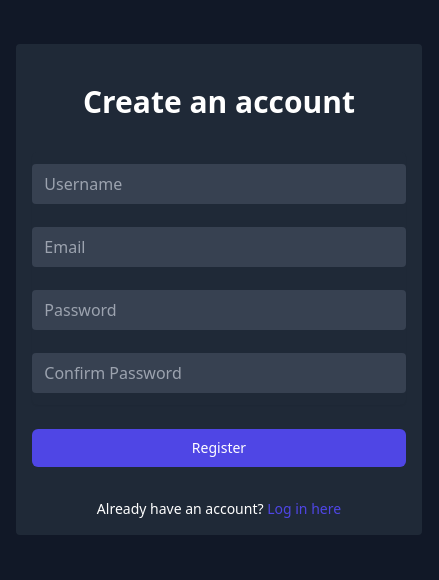
Test: Register › displays error message for failed registration
In the field with placeholder "Username": (219, 184) x1=32 y1=164 x2=406 y2=204, type "testuser"
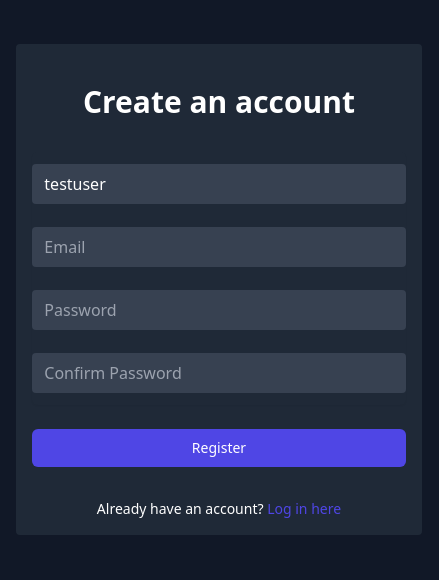
In the field with placeholder "Email": (219, 246) x1=32 y1=226 x2=406 y2=266, type "test@example.com"
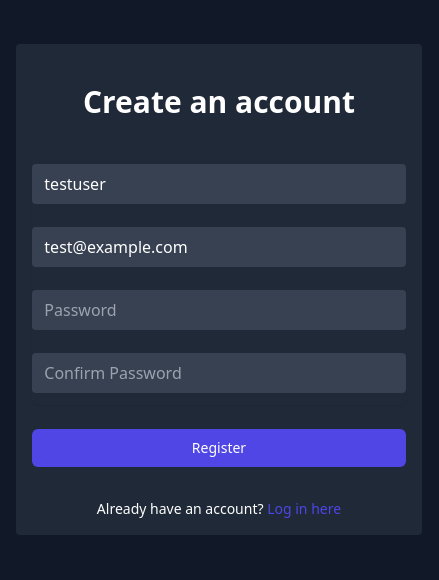
In the password field with placeholder "Password": (219, 310) x1=32 y1=290 x2=406 y2=330, type "StrongPassword123!"
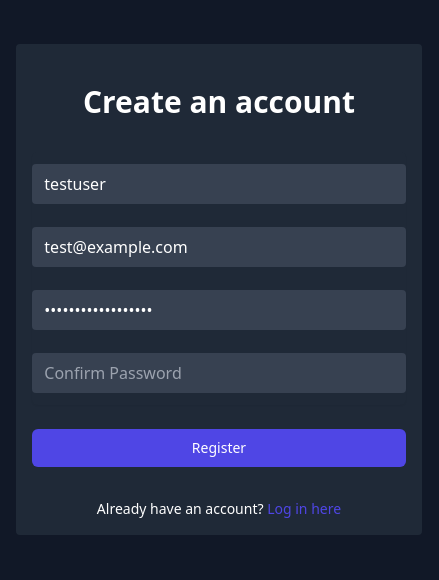
In the password field with placeholder "Confirm Password": (219, 372) x1=32 y1=352 x2=406 y2=392, type "StrongPassword123!"
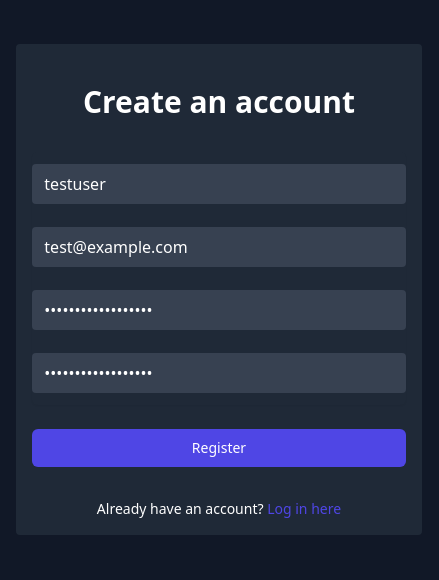
Click the button "Register": (219, 448) x1=32 y1=428 x2=406 y2=466
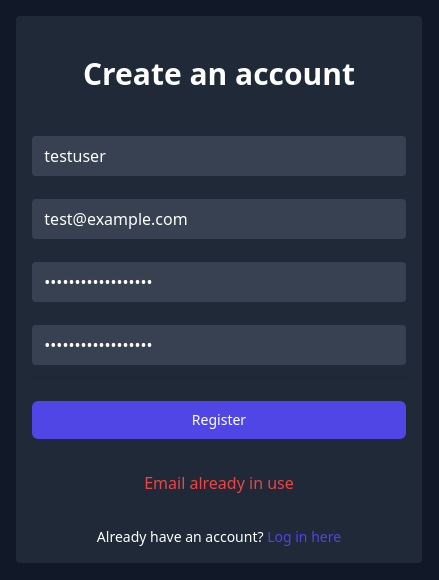
Check: the text "Email already in use" is shown, box x1=144 y1=472 x2=294 y2=494
